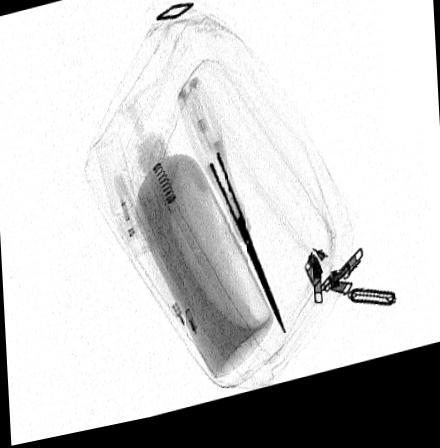Scissors: (177, 84, 287, 346)
